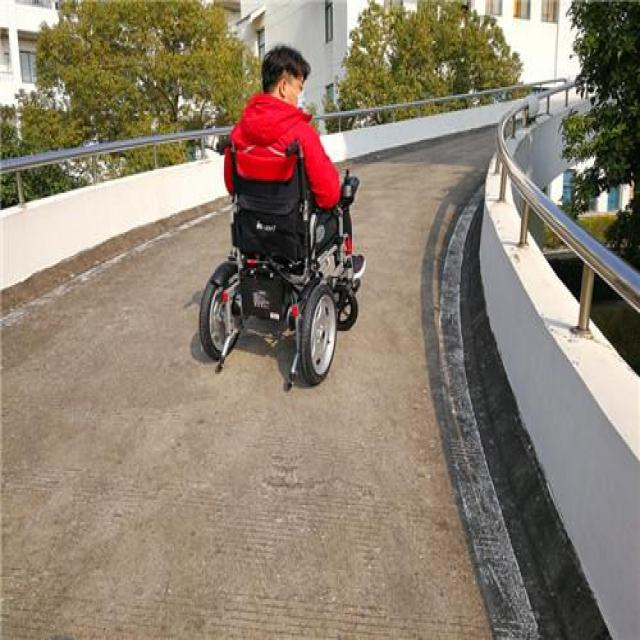wheelchairs: (195, 115, 375, 392)
